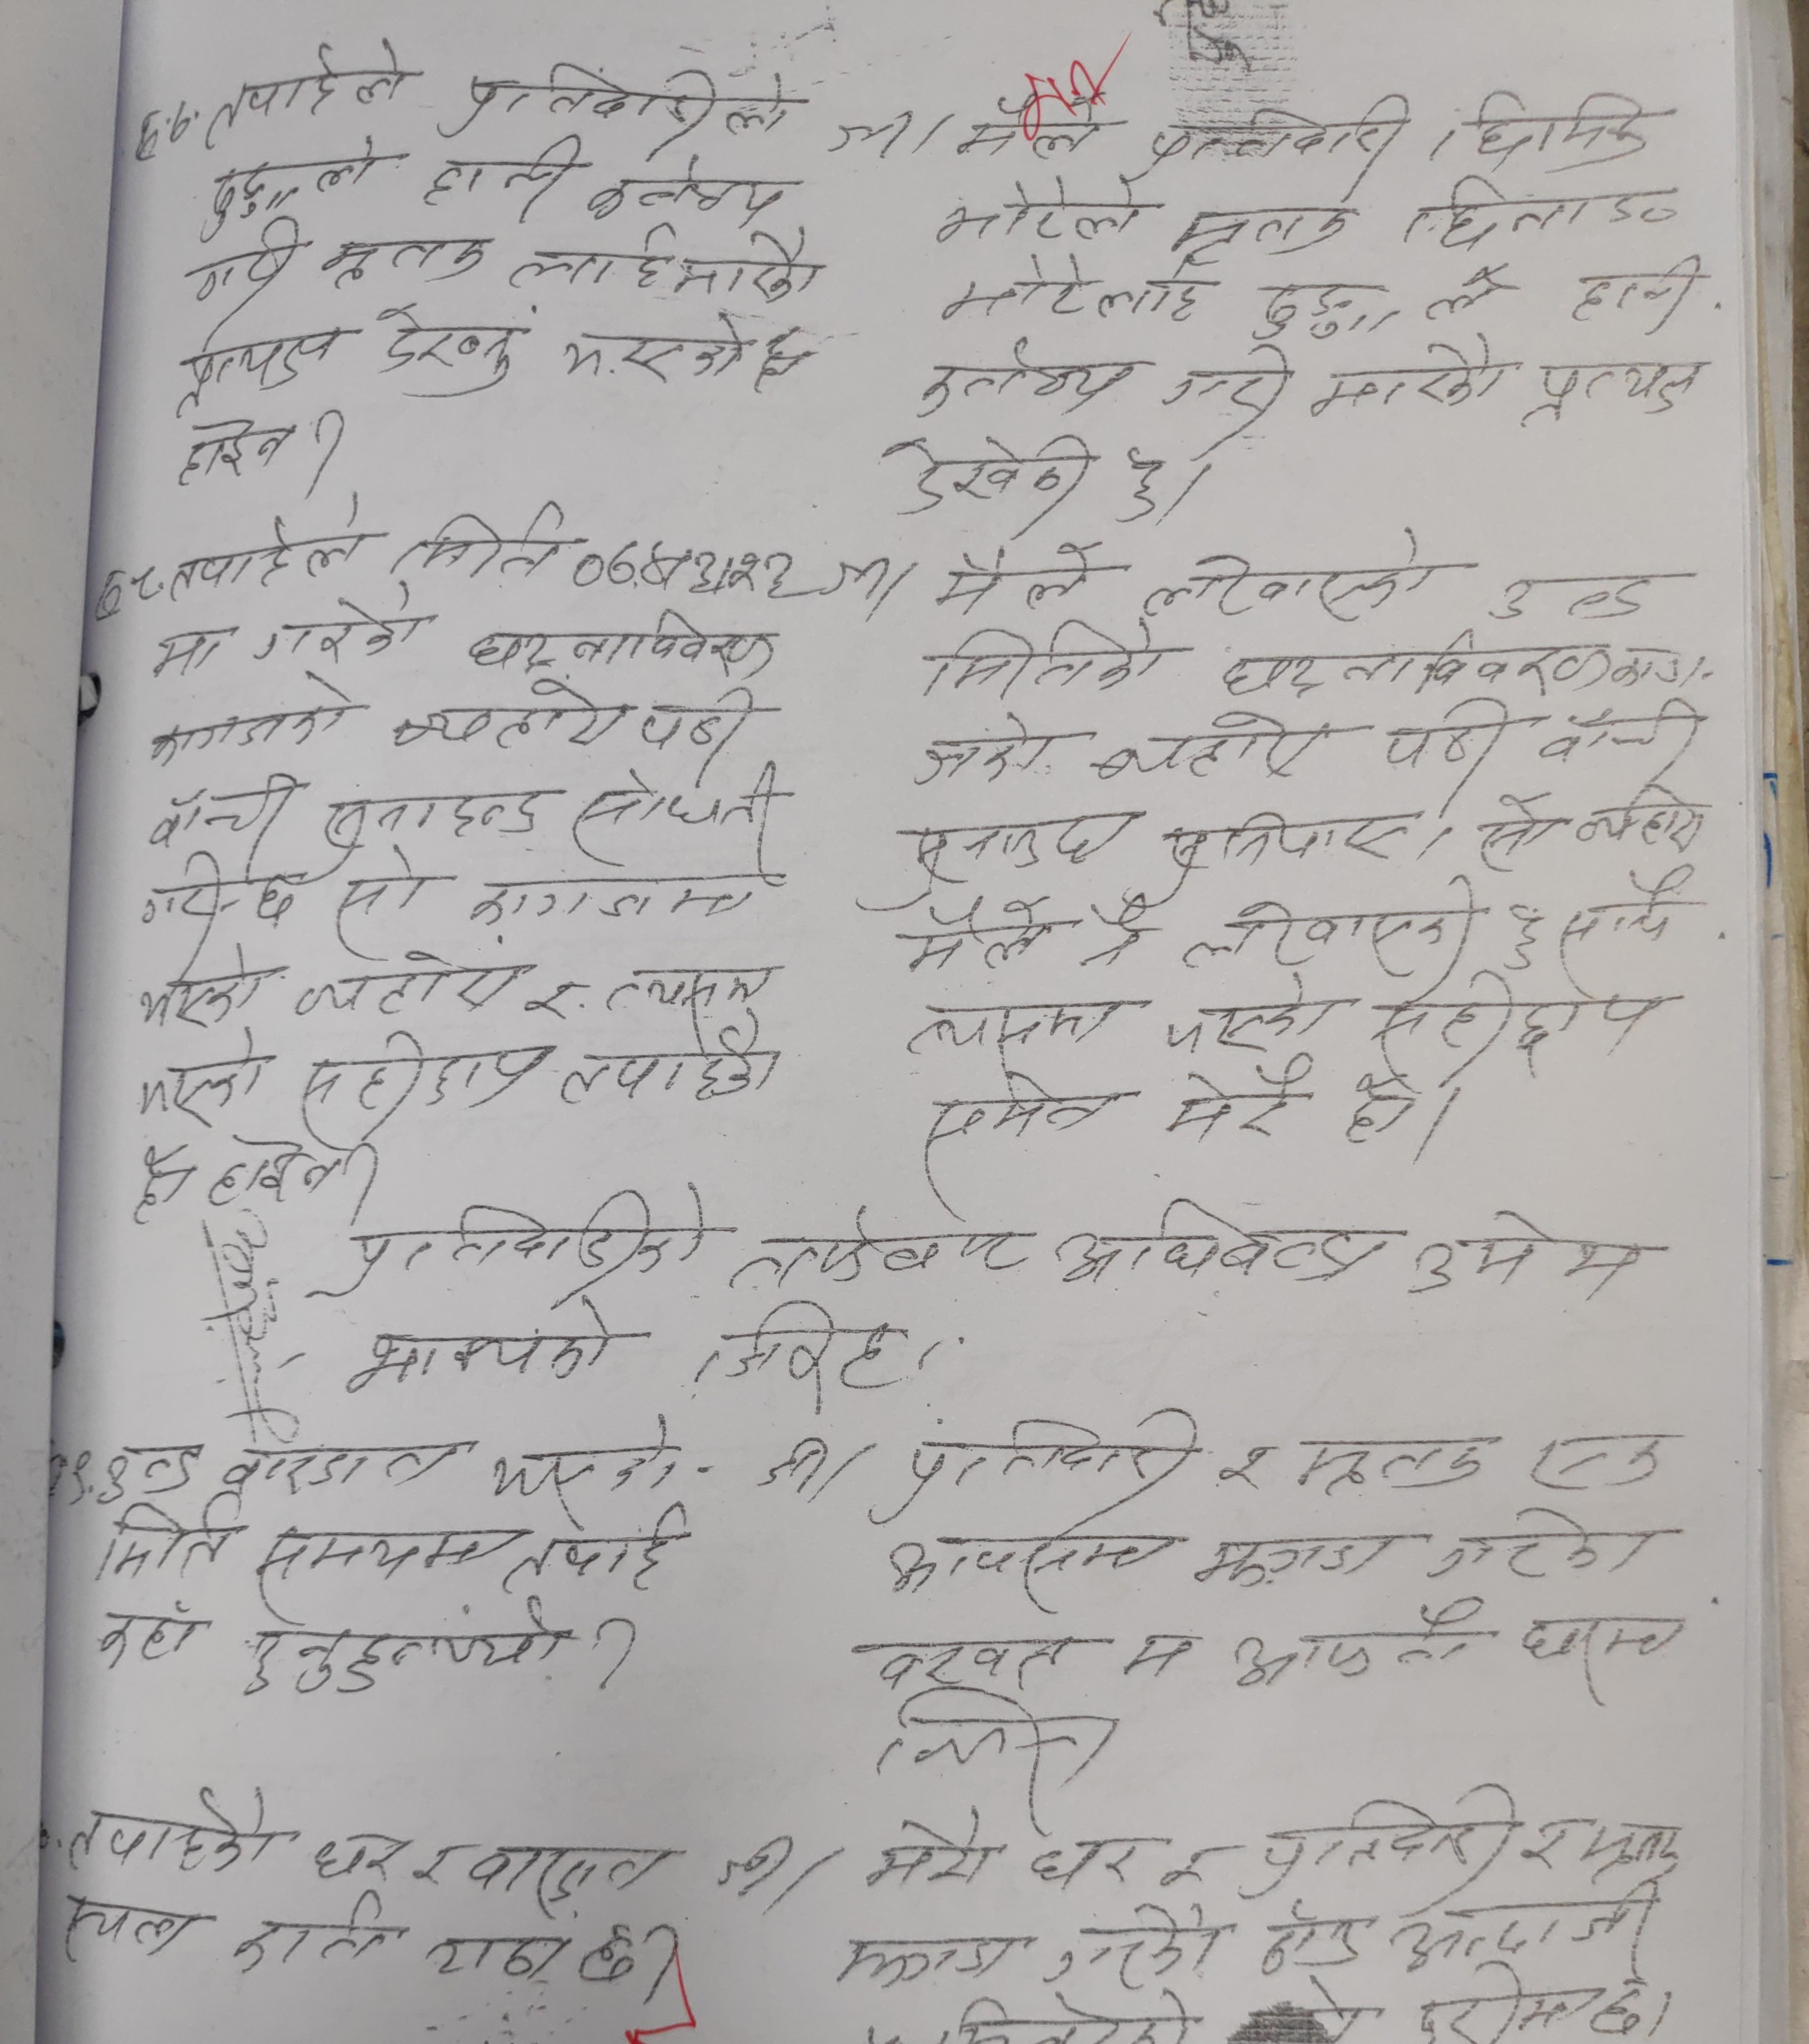text: (241, 1593, 581, 1705), (1215, 620, 1687, 701), (342, 1190, 714, 1291), (1051, 1197, 1395, 1291), (1172, 875, 1482, 978), (884, 1401, 1201, 1501), (1245, 1775, 1521, 1887), (340, 1291, 615, 1396), (1137, 531, 1446, 624), (868, 1689, 1126, 1799), (725, 1202, 1035, 1293), (1372, 973, 1655, 1071), (444, 59, 794, 136), (1224, 1593, 1491, 1693), (295, 1029, 559, 1129), (880, 1522, 1172, 1609), (505, 227, 824, 306), (1147, 91, 1416, 183), (65, 1775, 286, 1887), (1402, 1207, 1638, 1312), (468, 604, 782, 681), (690, 1300, 908, 1408), (915, 1066, 1137, 1172), (1393, 1875, 1657, 1962), (934, 252, 1214, 330), (159, 498, 367, 603), (201, 40, 405, 145), (564, 760, 779, 860), (459, 868, 761, 938), (898, 804, 1125, 896), (1421, 1501, 1671, 1585), (251, 1513, 503, 1595), (1404, 173, 1676, 248), (878, 430, 1100, 521), (1154, 802, 1413, 879), (927, 622, 1182, 699), (1432, 89, 1664, 173), (482, 1413, 683, 1509), (148, 671, 353, 762), (384, 680, 632, 753), (227, 1889, 403, 1992), (1306, 334, 1509, 423), (911, 335, 1135, 416), (1084, 709, 1329, 783), (285, 949, 524, 1022), (557, 1029, 779, 1106), (555, 300, 744, 388), (931, 175, 1151, 248), (569, 538, 798, 608), (891, 992, 1125, 1060), (1037, 1904, 1228, 1986), (1551, 863, 1694, 971), (1154, 1053, 1308, 1153), (1514, 1606, 1689, 1693), (203, 1127, 384, 1211), (1186, 1527, 1407, 1595), (501, 1509, 688, 1590), (393, 498, 567, 584), (587, 155, 794, 227), (1156, 982, 1345, 1060), (370, 299, 519, 398), (464, 1836, 669, 1908), (1163, 196, 1350, 273), (87, 1499, 244, 1590), (1292, 1429, 1491, 1501), (318, 790, 548, 851), (197, 142, 384, 217), (143, 765, 304, 853), (169, 330, 347, 409), (1418, 1965, 1596, 2044), (217, 1436, 466, 1492), (857, 1623, 1067, 1689), (421, 135, 585, 218), (1519, 353, 1711, 425), (140, 854, 300, 938), (829, 1920, 1023, 1988), (929, 538, 1097, 615), (138, 1032, 269, 1130), (1535, 701, 1711, 770), (136, 936, 265, 1031), (1561, 245, 1702, 330), (251, 597, 433, 664), (861, 1813, 1009, 1894), (320, 225, 489, 295), (904, 903, 1055, 982), (637, 676, 767, 765), (950, 82, 1102, 157), (1156, 341, 1292, 423), (61, 1890, 194, 1974), (908, 711, 1058, 784), (1482, 566, 1662, 627), (1383, 695, 1505, 783), (328, 846, 437, 943), (1575, 781, 1709, 860), (1516, 1427, 1661, 1499), (180, 220, 306, 302), (602, 959, 775, 1017), (1250, 281, 1400, 344), (1250, 1904, 1378, 1978), (417, 1929, 573, 1988), (173, 414, 297, 487), (91, 1595, 203, 1674), (1028, 1831, 1151, 1897), (1577, 1812, 1687, 1880), (1475, 793, 1563, 874), (1338, 1064, 1418, 1150), (309, 1822, 405, 1889), (100, 1436, 199, 1499), (1418, 262, 1516, 321), (1076, 903, 1151, 980), (126, 1143, 196, 1225), (148, 625, 229, 688), (1212, 1438, 1282, 1509), (576, 1923, 643, 1997), (1119, 1626, 1205, 1682), (1519, 1808, 1577, 1876), (1112, 452, 1163, 522), (407, 1833, 461, 1896), (1156, 1843, 1221, 1896), (1500, 898, 1544, 975)
